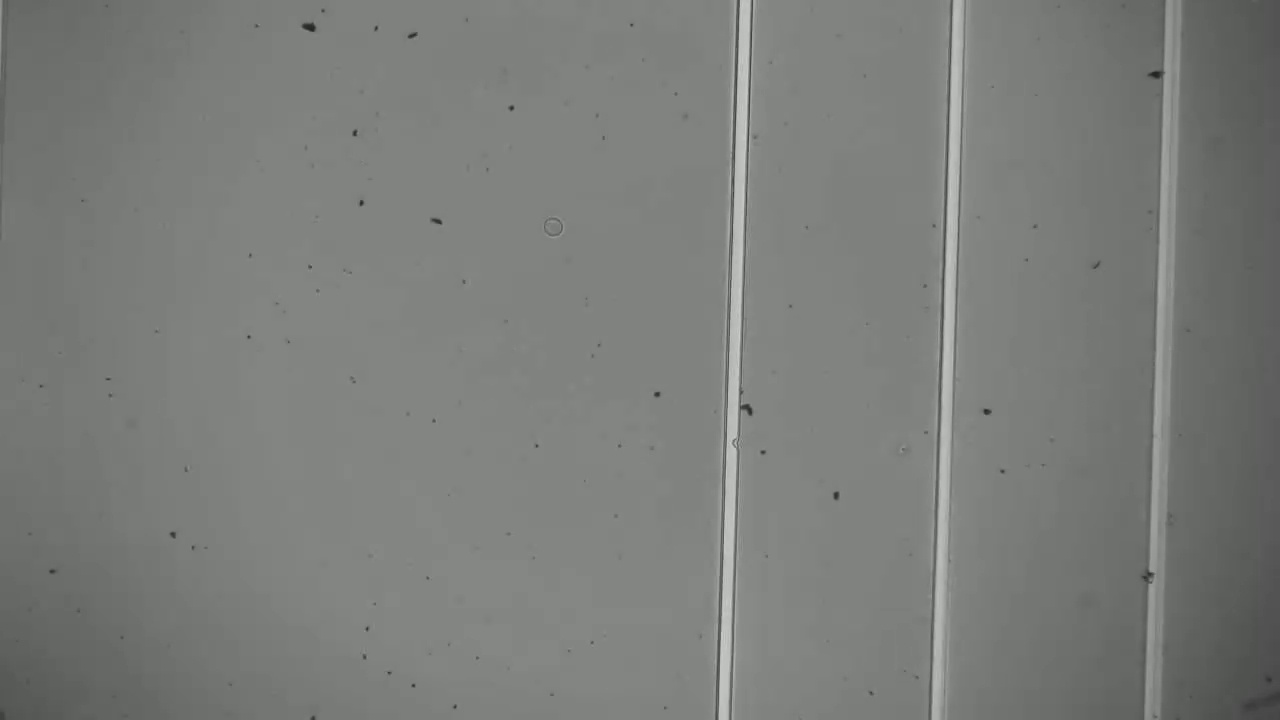edge_bite: (715, 432, 744, 457)
stains_enbedded: (1139, 567, 1173, 596)
